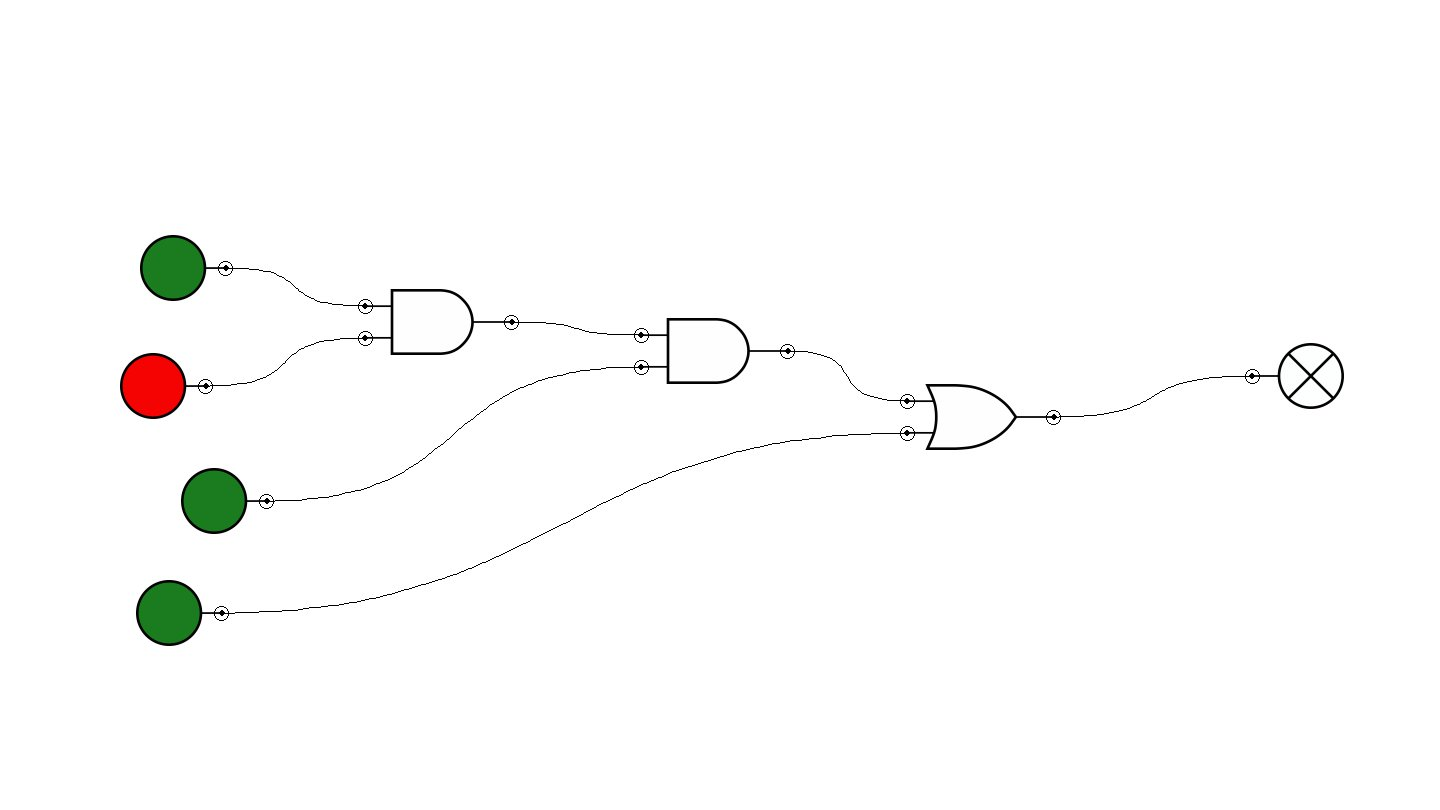and: (358, 289, 519, 355), (634, 318, 795, 384)
bulb: (1245, 343, 1344, 409)
or: (900, 384, 1061, 450)
switch_False: (120, 353, 213, 419)
switch_True: (140, 235, 233, 301), (181, 468, 274, 534), (136, 580, 229, 646)
